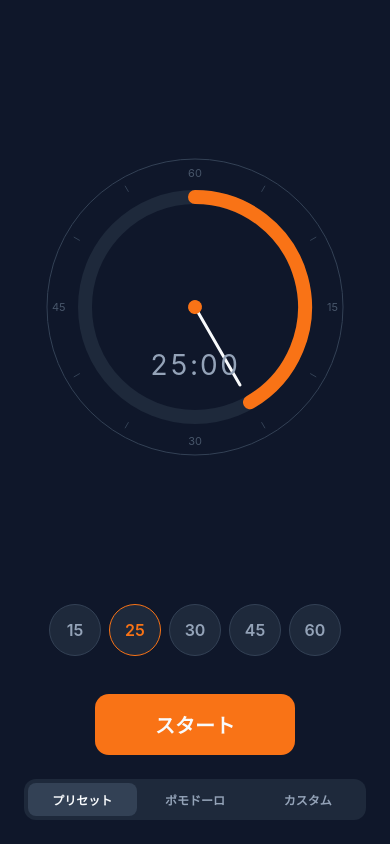
Test: TimerScreen › カスタムタブに切り替えるとスライダーが表示される
Click the text "カスタム": [308, 800] box [284,791,332,808]
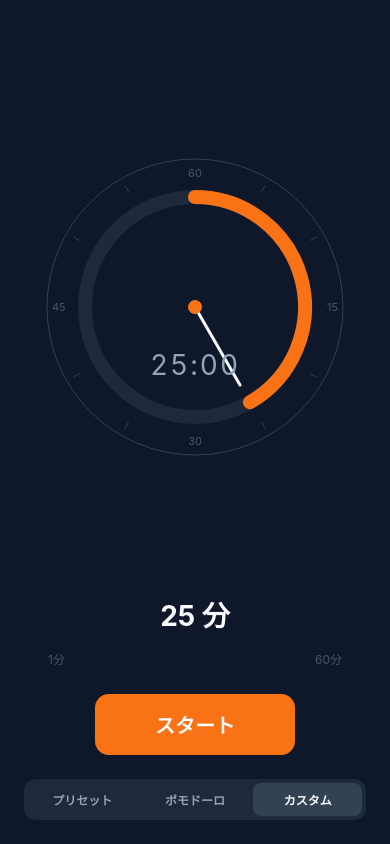
Check: the text "25 分" is shown, box [160,594,230,634]
